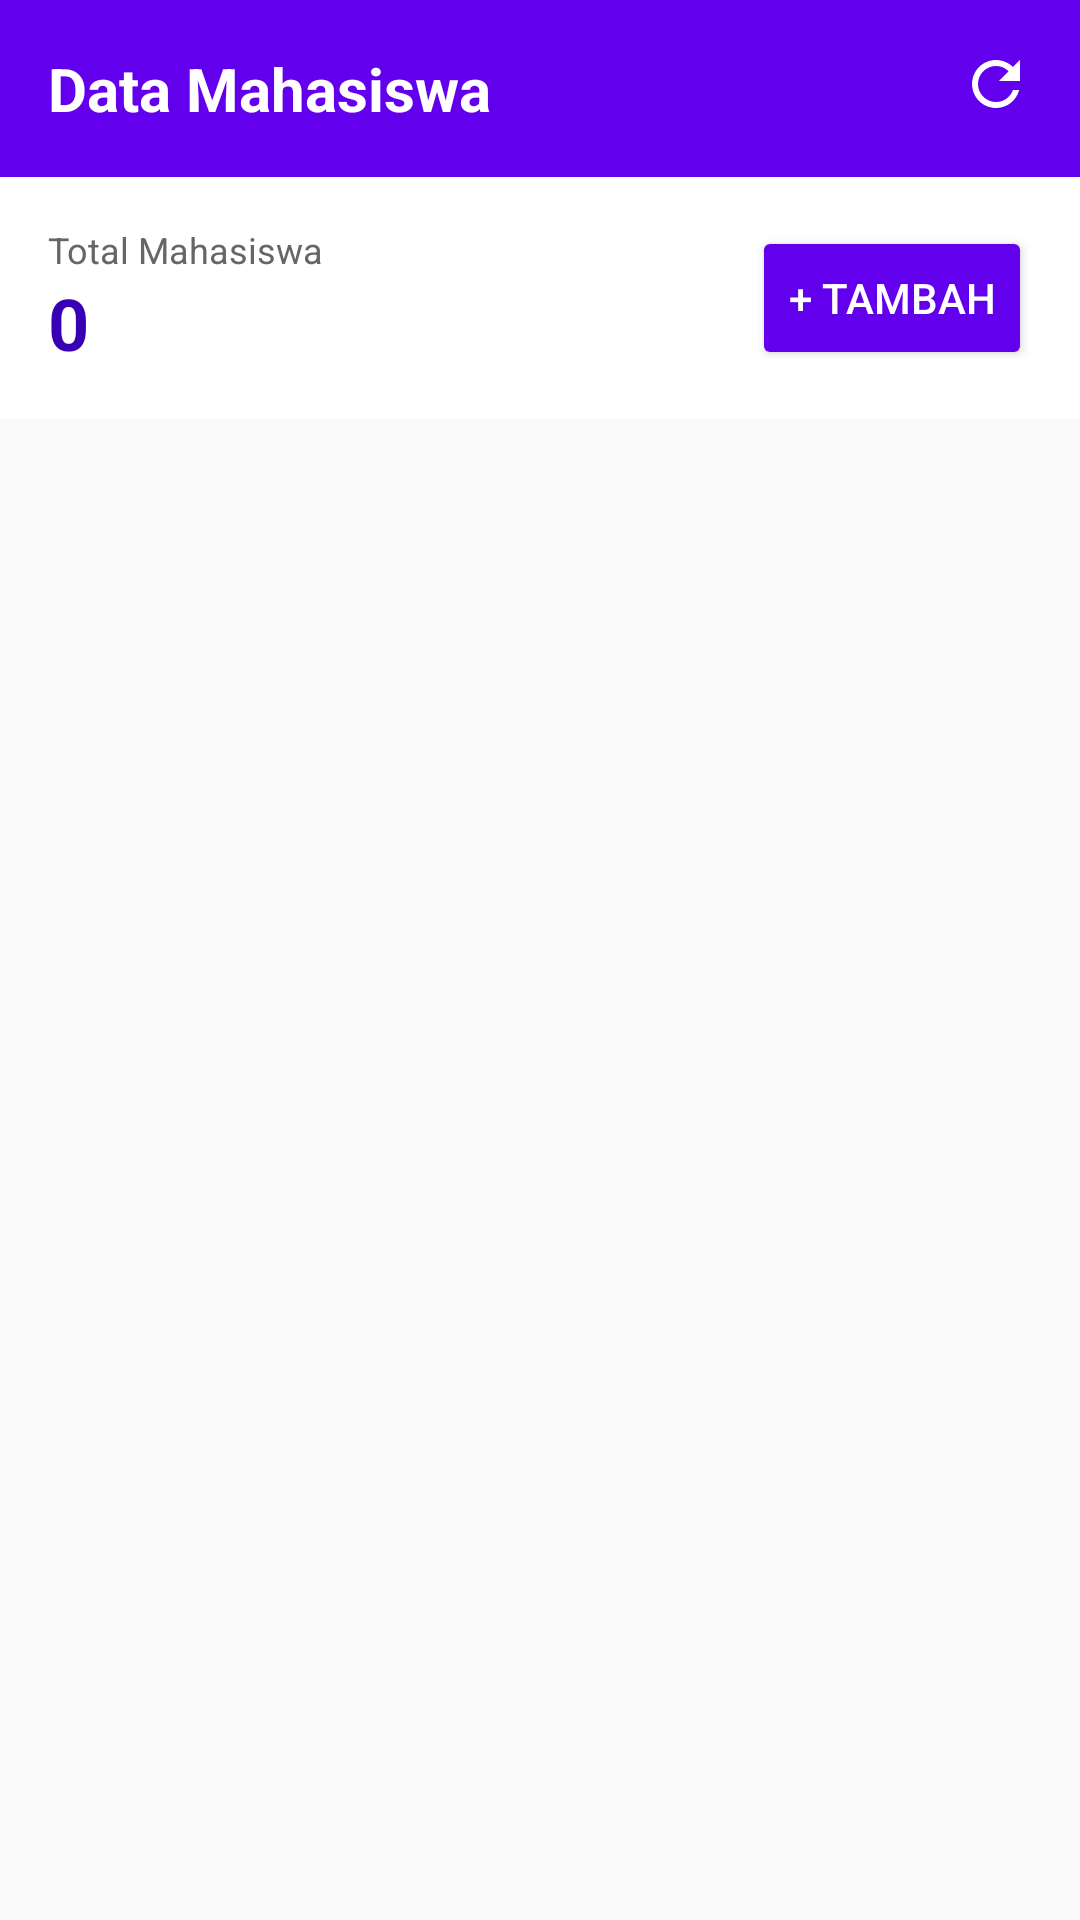

Icon bounding boxes for this 1080px×1920px phone screenshot, format (x1, y1, x2, y2):
refresh: (972, 60, 1020, 108)
